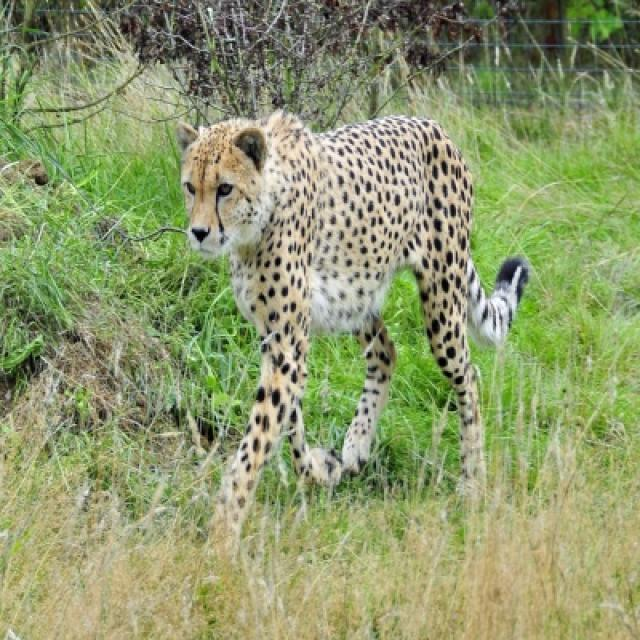Cheetah: (179, 112, 531, 555)
